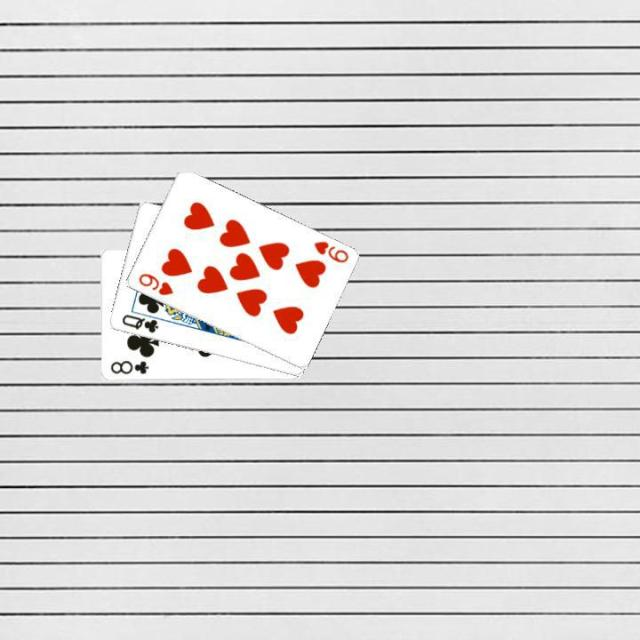8C: (107, 357, 150, 376)
9H: (134, 269, 174, 298), (310, 237, 350, 265)
QC: (117, 310, 160, 335)
